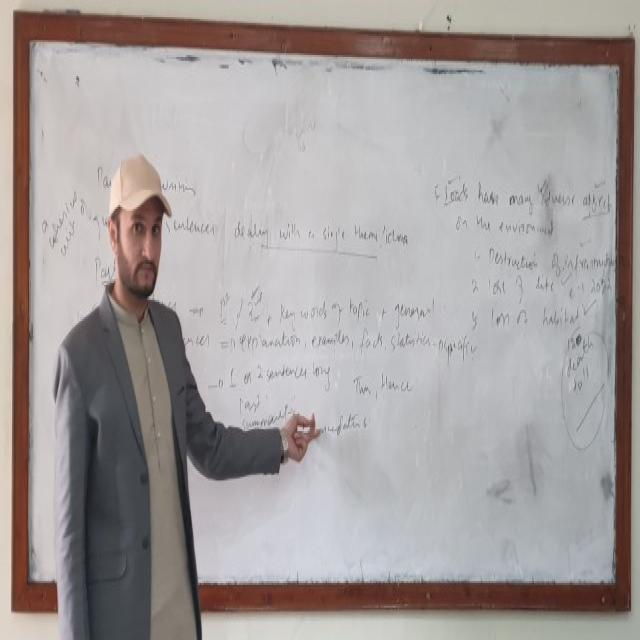Instructor: (68, 144, 201, 640)
White-board: (18, 21, 627, 599)
